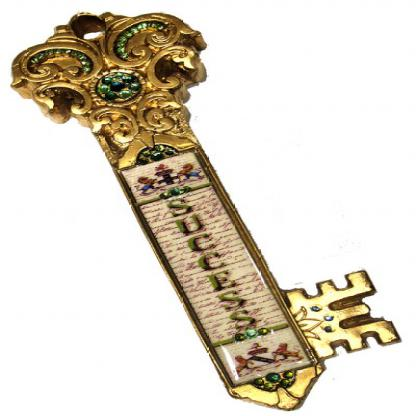key: (13, 11, 398, 409)
